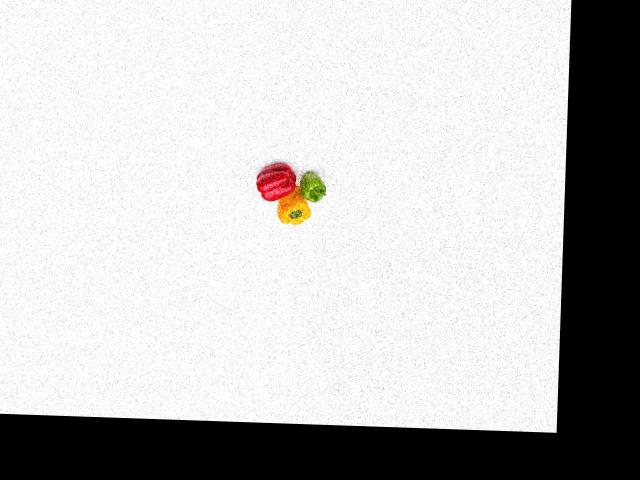bell_pepper: (298, 170, 333, 205)
